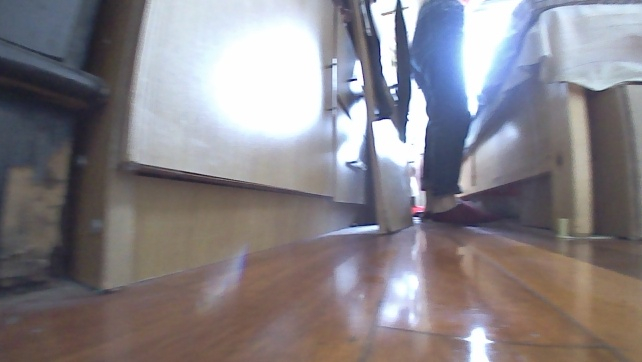bed1: (448, 0, 641, 240)
shoe: (420, 199, 508, 228)
